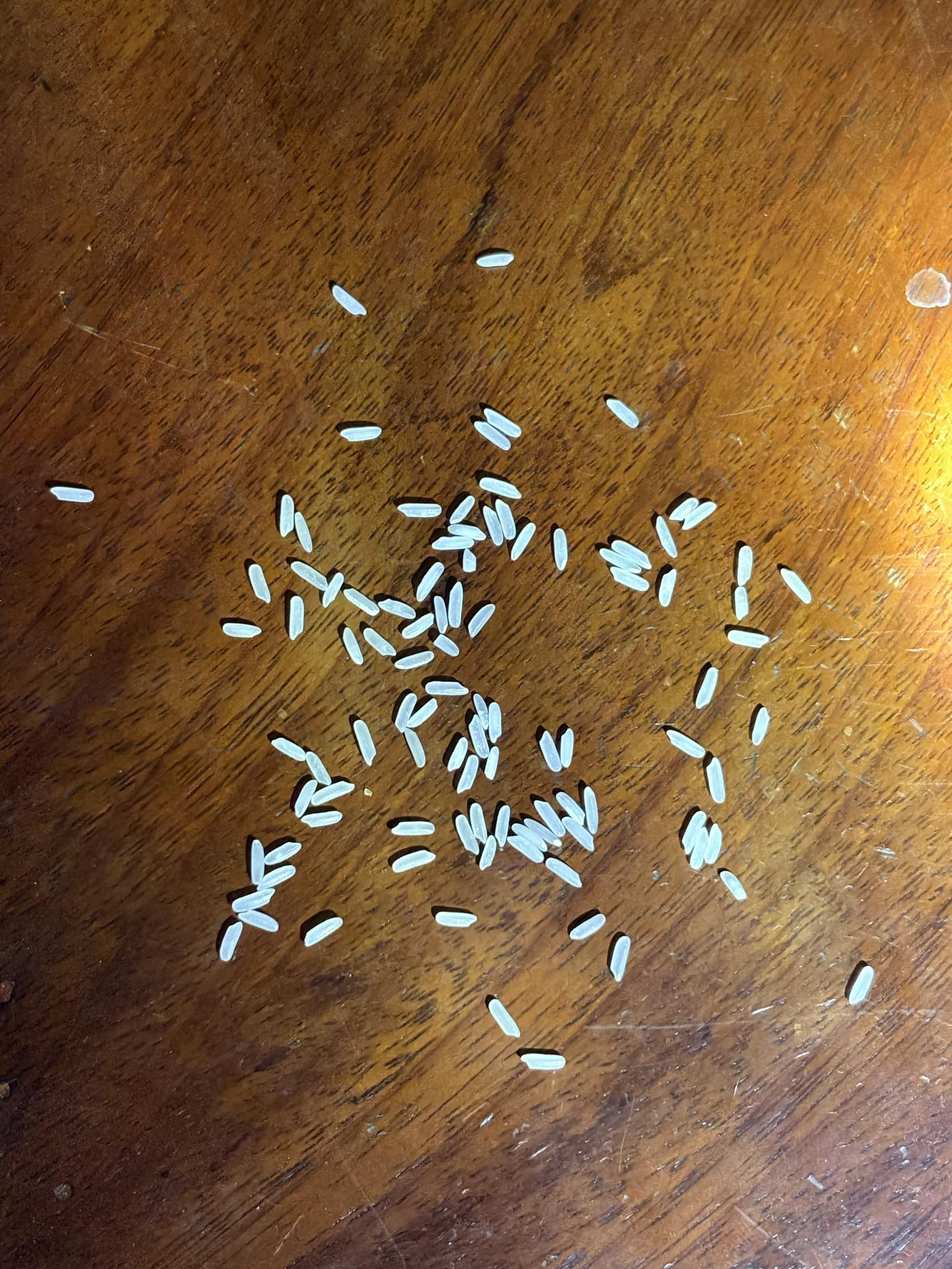Rice-th-y-nh: (488, 999, 520, 1038), (303, 917, 342, 946), (562, 817, 594, 852), (613, 541, 652, 569), (546, 858, 582, 888), (231, 888, 275, 912), (535, 801, 565, 836), (291, 562, 328, 590), (354, 720, 377, 765), (668, 731, 706, 758), (781, 569, 811, 603), (475, 422, 511, 450), (485, 409, 521, 437), (507, 835, 543, 863), (417, 563, 443, 601), (312, 781, 353, 805), (525, 818, 560, 846), (849, 966, 874, 1005), (237, 909, 279, 932), (455, 815, 479, 855), (219, 921, 243, 961), (333, 286, 366, 315), (696, 668, 719, 709), (600, 549, 641, 572), (682, 812, 706, 851), (556, 792, 585, 824), (511, 523, 536, 560), (468, 715, 489, 758), (393, 850, 434, 872), (539, 732, 562, 771), (257, 866, 296, 889), (468, 604, 495, 637), (345, 588, 378, 615), (683, 502, 716, 529), (306, 751, 332, 785), (610, 568, 648, 591), (294, 780, 317, 818), (408, 699, 438, 728), (364, 628, 395, 656), (607, 399, 638, 427), (655, 518, 677, 557), (404, 728, 426, 767), (264, 842, 301, 865), (571, 915, 606, 939), (611, 937, 630, 981), (480, 478, 521, 498), (457, 756, 479, 793), (512, 823, 544, 848), (483, 507, 504, 545), (249, 565, 270, 602), (395, 694, 416, 731), (707, 759, 725, 802), (690, 829, 709, 869), (469, 803, 488, 843), (343, 628, 364, 664), (721, 871, 747, 900), (272, 738, 306, 760), (496, 500, 515, 539), (322, 573, 344, 606), (447, 738, 468, 772), (403, 614, 434, 637), (249, 840, 265, 884), (380, 599, 415, 619), (522, 1054, 565, 1070), (295, 512, 312, 552), (728, 631, 768, 648), (278, 495, 295, 535), (584, 787, 599, 832), (752, 707, 770, 744), (705, 824, 722, 863), (448, 583, 463, 627), (450, 496, 474, 523), (396, 652, 434, 669), (51, 487, 94, 502), (289, 596, 304, 639), (670, 498, 698, 521), (737, 547, 753, 586), (435, 912, 476, 927), (302, 812, 343, 827), (479, 836, 497, 870), (449, 524, 485, 541), (659, 570, 676, 606), (399, 503, 442, 517), (495, 805, 510, 845), (433, 536, 475, 550), (426, 681, 468, 695), (392, 822, 434, 836), (223, 623, 261, 638), (560, 729, 575, 767), (554, 529, 568, 569), (434, 634, 459, 656), (488, 703, 502, 741), (342, 428, 382, 441), (474, 694, 489, 727), (485, 746, 500, 779), (734, 587, 749, 619), (477, 254, 514, 266), (435, 596, 447, 632), (463, 549, 476, 573)
